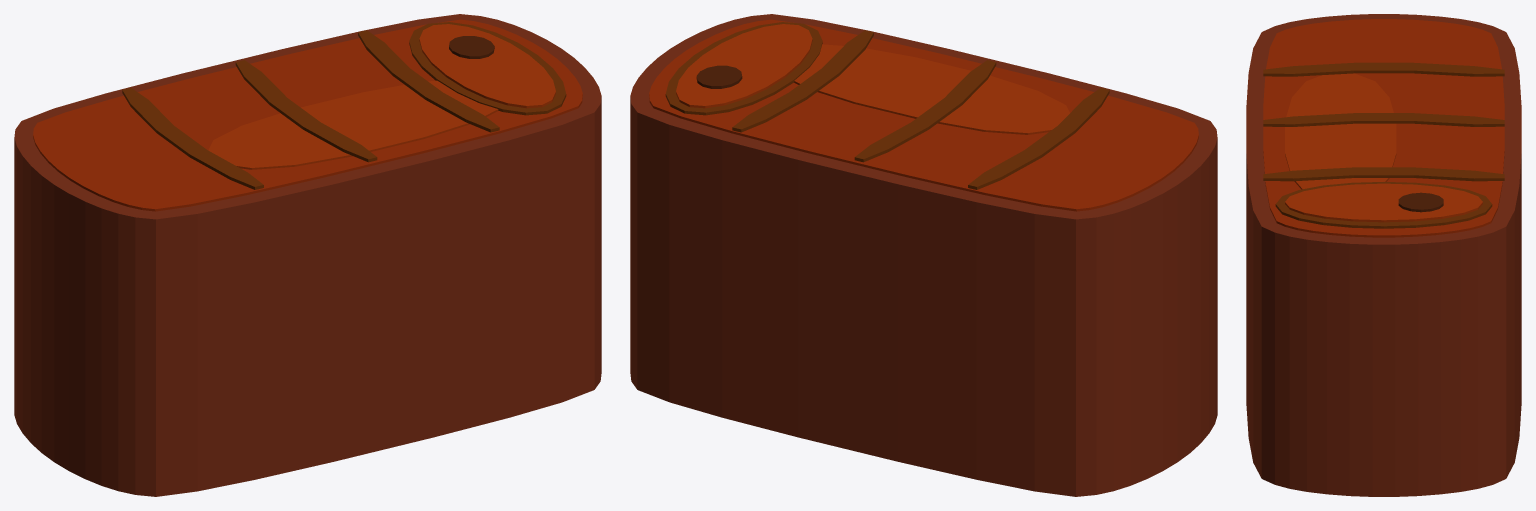
The model's file is bag_barril.fbx.
The picture shows the model from 3 angles, left to right: view 1: azimuth 30°, elevation 25°; view 2: azimuth 150°, elevation 25°; view 3: azimuth 270°, elevation 25°; orthographic projection. The views are drawn at different scales.
Visible parts, largest first — view 1: bag_barril_mochila; view 2: bag_barril_mochila; view 3: bag_barril_mochila.
Part boxes in pixels (x1,y1,x2,y2): bag_barril_mochila: [14, 14, 601, 496]; bag_barril_mochila: [630, 14, 1217, 496]; bag_barril_mochila: [1246, 14, 1521, 496].
Size of the model in its own units: 3.53 by 1.87 by 1.78.
Materials: 1 (1 with a texture image).
